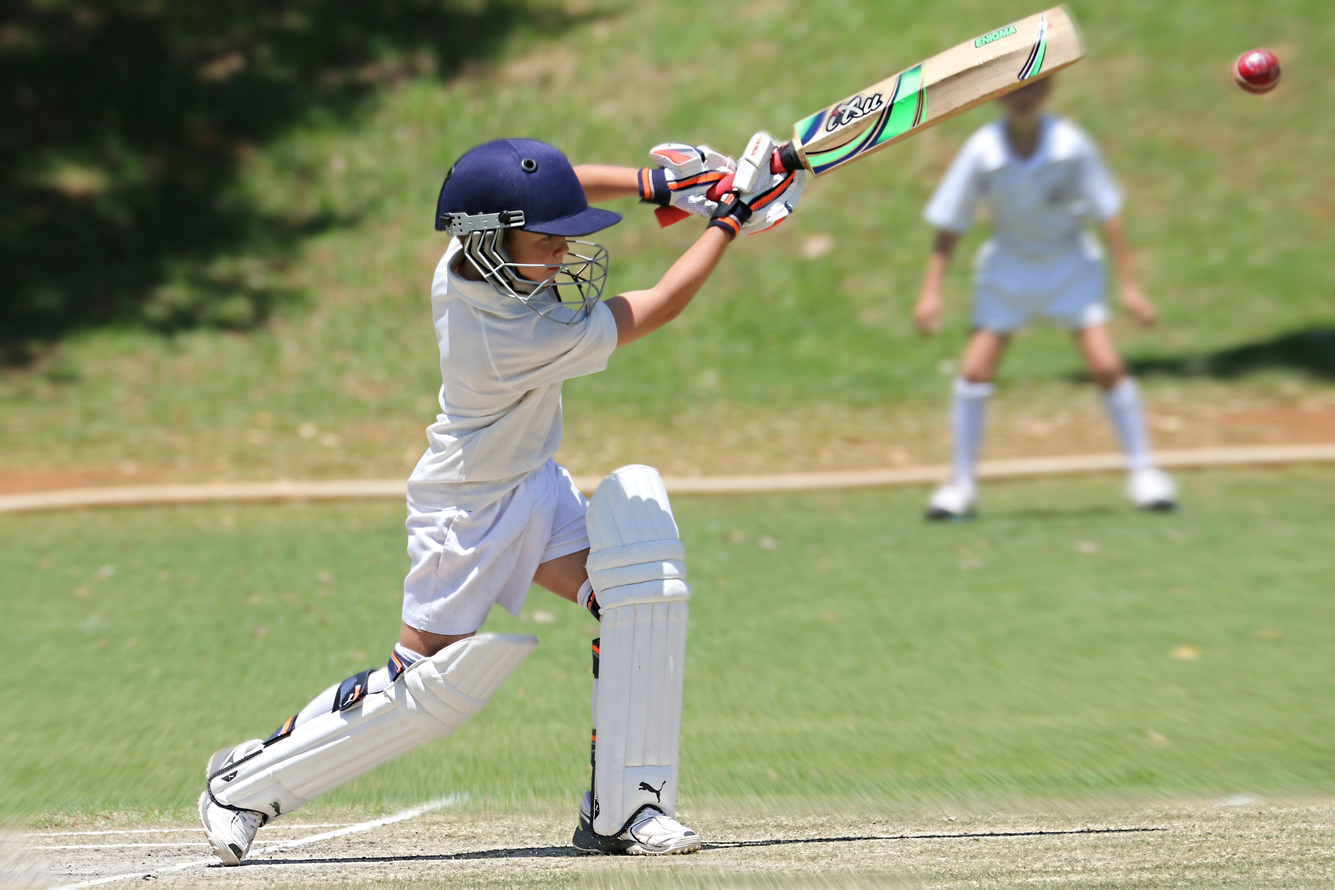batsman: (196, 115, 814, 866)
